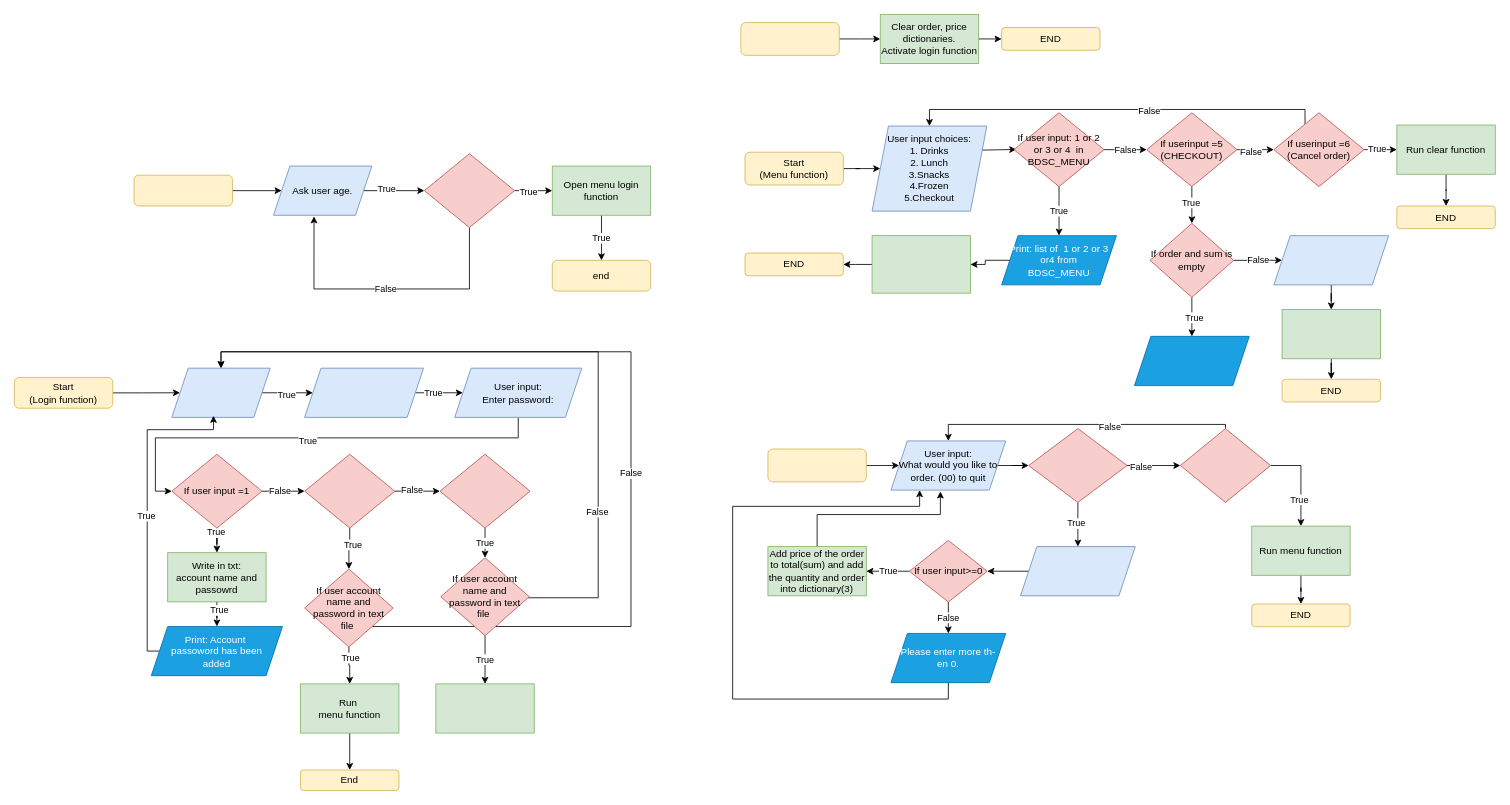
This 1510x805 diagram has some shape labels left out. The centre of each missing label's shape, as x and y in pixels:
elif user input =2: point (349, 490)
elif user input =3: point (484, 490)
Erase data from txt: point (484, 708)
If = 00: point (1225, 465)
If age >=14 and <=18: point (469, 190)
If user input is in dictionary: point (1077, 465)
Please order something: point (1191, 361)
Print order and total price: point (1331, 260)
Run clean function go to age function: point (1330, 334)
Start (Age function): point (182, 190)
Start (Clear function): point (789, 38)
Start (math function): point (816, 465)
Store list of 1 or 2 or 3 or 4 into calculation 1,2 dictionary Run math function: point (920, 264)
User input: 1. Add account 2.Login 3.Reset: point (220, 392)
User input: Enter account name:: point (364, 392)
User input: quantity: point (1077, 571)
